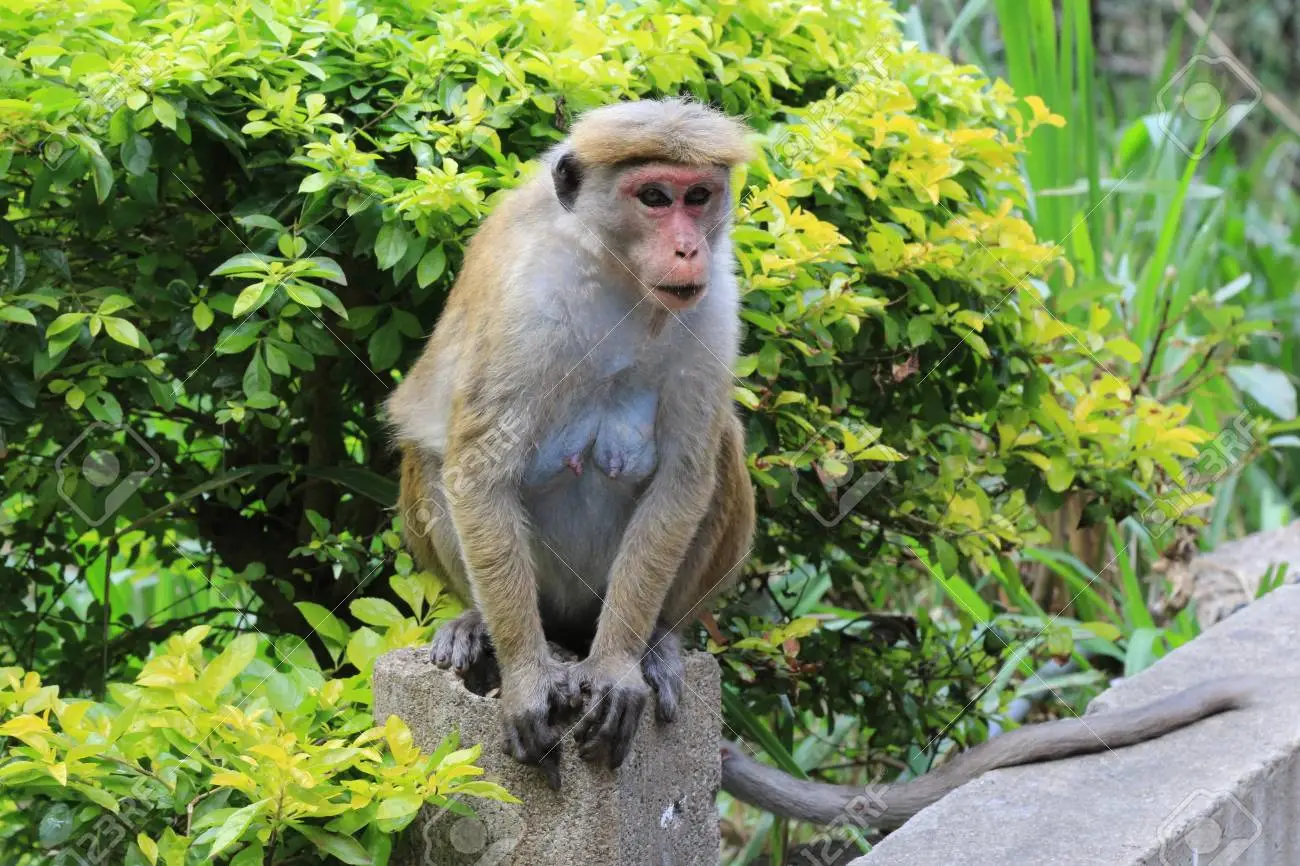Monkey: (395, 52, 799, 768)
